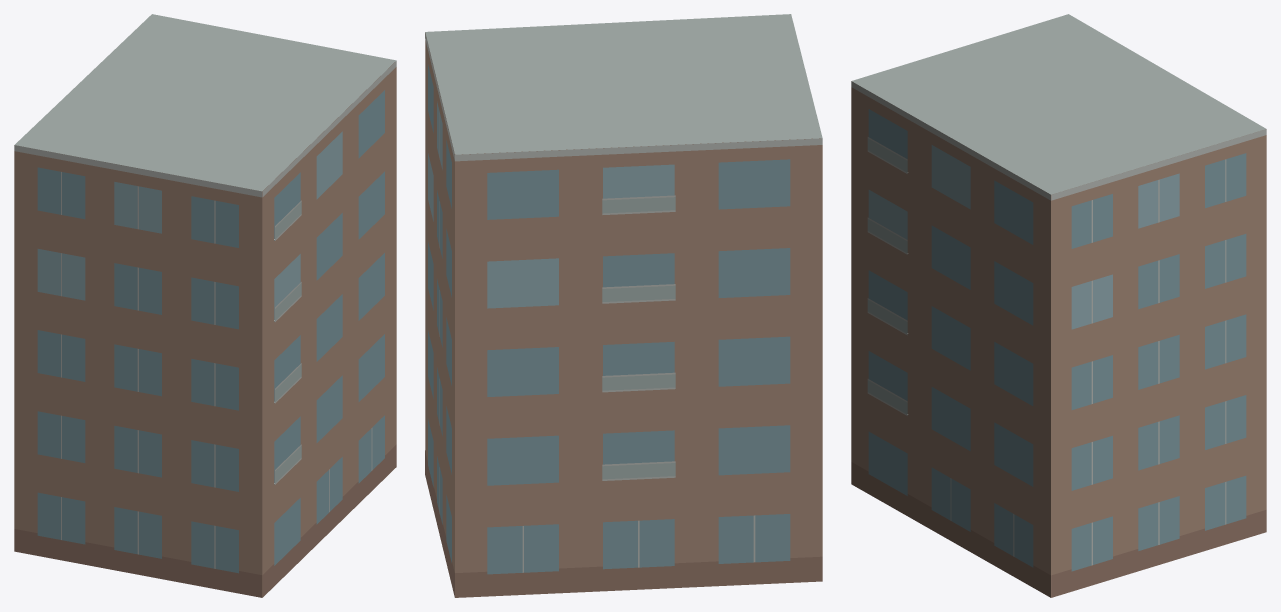
The model's file is survey-upis-32604654.glb.
3 renders of one model, left to right at view 1: azimuth 30°, elevation 25°; view 2: azimuth 150°, elevation 25°; view 3: azimuth 270°, elevation 25°, orthographic. The views are drawn at different scales.
Parts seen in each view (by area): view 1: survey-upis-32604654.tmp; view 2: survey-upis-32604654.tmp; view 3: survey-upis-32604654.tmp.
Boxes of the visible parts, <box> form: survey-upis-32604654.tmp: <box>14,14,396,597</box>; survey-upis-32604654.tmp: <box>425,14,822,597</box>; survey-upis-32604654.tmp: <box>851,14,1266,597</box>.
Size of the model in its own units: 15.68 by 16.3 by 15.23.
